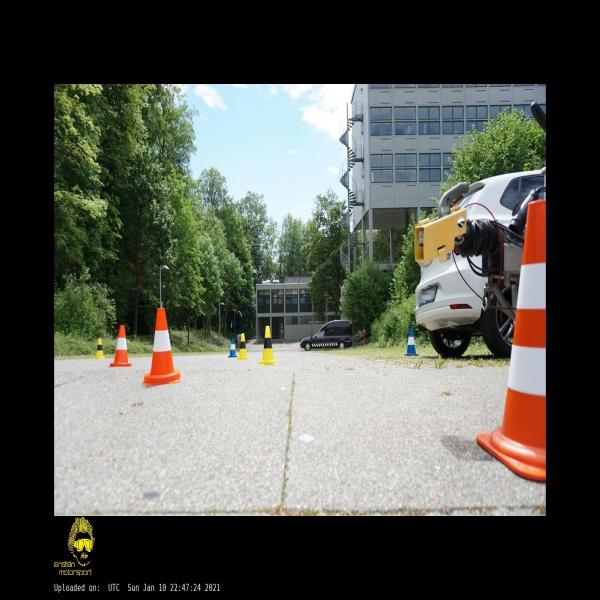blue_cone: (404, 328, 418, 356), (228, 338, 237, 358)
large_orange_cone: (476, 200, 546, 482)
orange_cone: (142, 308, 181, 386), (110, 325, 132, 367)
yellow_cone: (259, 326, 277, 365), (237, 333, 249, 359), (94, 338, 105, 359)
